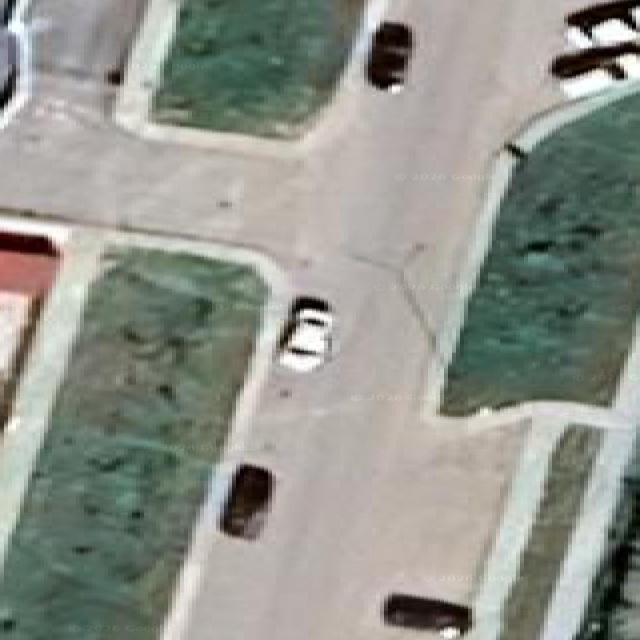car: (552, 0, 639, 97), (550, 43, 639, 98), (278, 297, 333, 371), (382, 594, 471, 639), (220, 464, 273, 539), (366, 22, 412, 91), (0, 29, 18, 108)
